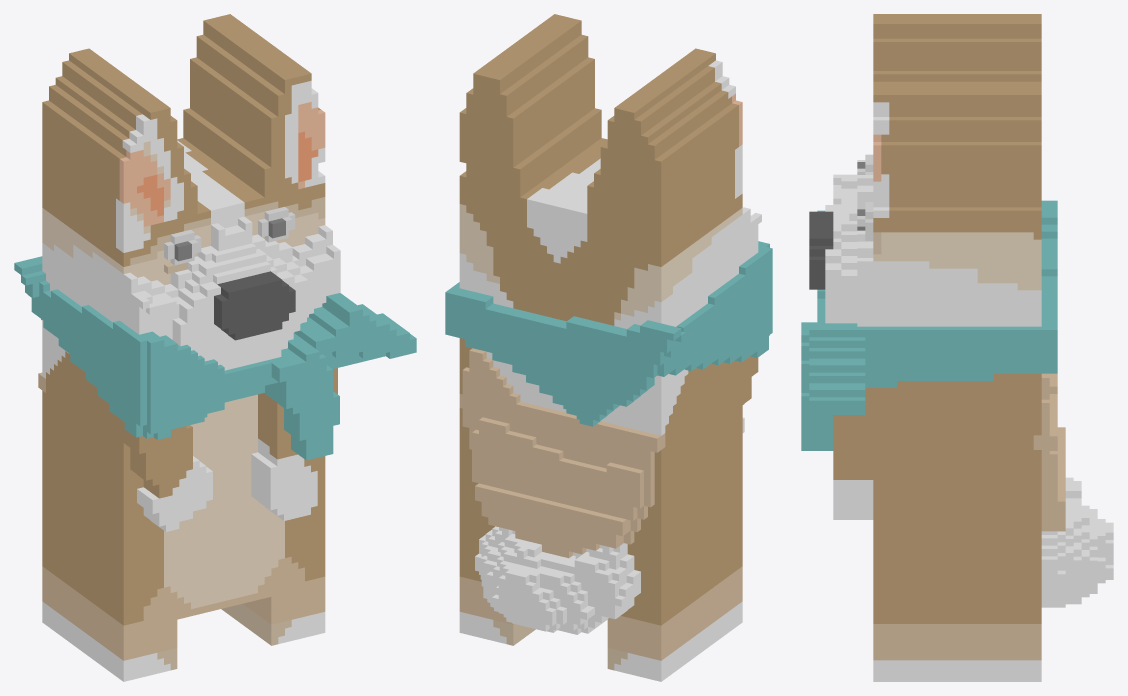
3 renders of one model, left to right at view 1: azimuth 30°, elevation 25°; view 2: azimuth 150°, elevation 25°; view 3: azimuth 270°, elevation 25°, orthographic. The views are drawn at different scales.
Visible parts, largest first — view 1: Geode; view 2: Geode; view 3: Geode.
Boxes of the visible parts, box(x1,y1,x2,y2) form: Geode: box(14, 14, 416, 681); Geode: box(445, 14, 772, 681); Geode: box(801, 14, 1113, 681).
Bounding box in the file's own units: 42 × 80 × 39.
